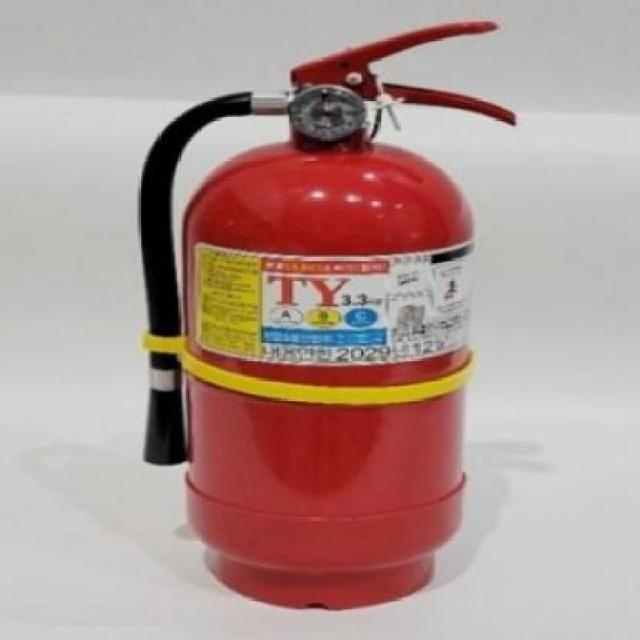fire extinguisher: (137, 17, 517, 611)
